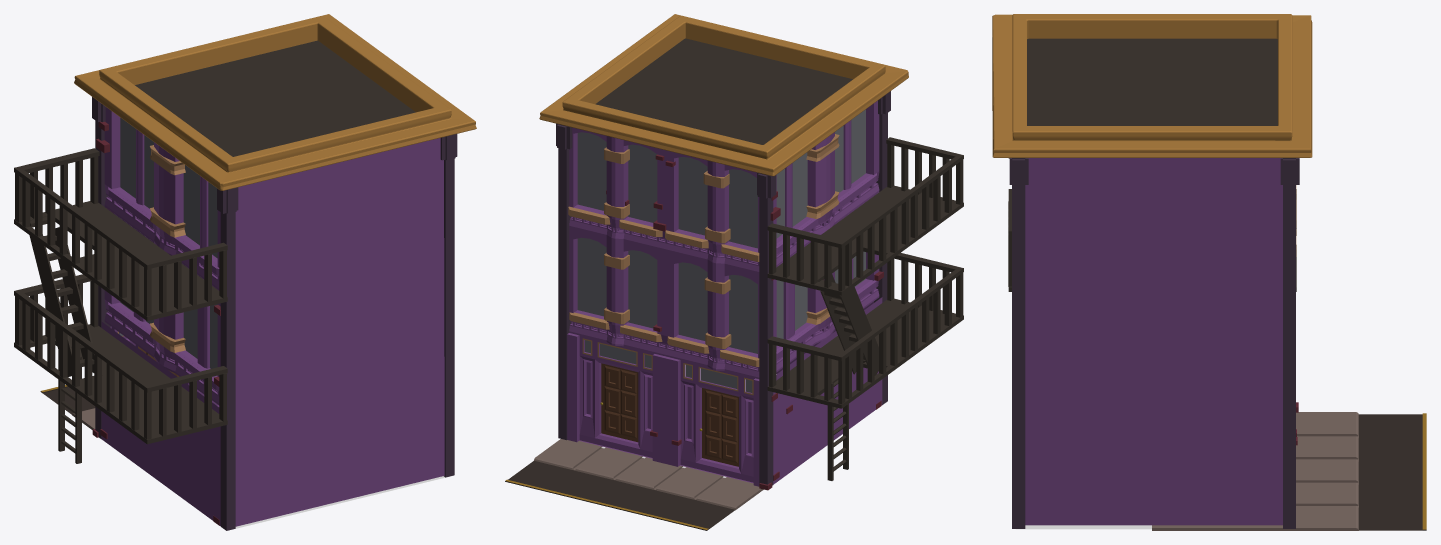
The model's file is LowPolyBuilding4.fbx.
The picture shows the model from 3 angles, left to right: view 1: azimuth 30°, elevation 25°; view 2: azimuth 150°, elevation 25°; view 3: azimuth 270°, elevation 25°; orthographic projection. The views are drawn at different scales.
Parts seen in each view (by area): view 1: Sacada.002, Parede.062, Parede.063, Teto.006, Parede.064, Teto.007, Parede.060, Parede.061, Pilastra.013, Parede.058, Pilastra.015, Escada.004 (+7 smaller); view 2: Sacada.002, Teto.006, Teto.007, Parede.056, Parede.057, Parede.059, Calçada.003, Parede.060, Rua.003, Parede.061, Pilastra.012, Pilastra.014 (+22 smaller); view 3: Parede.065, Parede.066, Parede.067, Teto.006, Teto.007, Calçada.003, Rua.003, Pilastra.015, Pilastra.014, BasePredio.003, Listra Amarela.003, Sacada.002.
Boxes of the visible parts, box(x1,y1,x2,y2) form: Sacada.002: box(14, 148, 227, 444); Parede.062: box(235, 356, 444, 526); Parede.063: box(235, 238, 444, 407); Teto.006: box(74, 14, 476, 190); Parede.064: box(235, 138, 443, 288); Teto.007: box(135, 40, 415, 156); Parede.060: box(104, 107, 220, 289); Parede.061: box(101, 322, 220, 525); Pilastra.013: box(217, 187, 238, 530); Parede.058: box(104, 207, 220, 405); Pilastra.015: box(440, 134, 457, 477); Escada.004: box(29, 227, 94, 376); Sacada.002: box(767, 137, 963, 408); Teto.006: box(539, 14, 908, 176); Teto.007: box(595, 38, 852, 144); Parede.056: box(567, 333, 759, 486); Parede.057: box(569, 227, 759, 378); Parede.059: box(569, 127, 759, 273); Calçada.003: box(534, 439, 763, 510); Parede.060: box(773, 100, 879, 266); Rua.003: box(505, 461, 734, 530); Parede.061: box(773, 297, 882, 484); Pilastra.012: box(757, 172, 776, 485); Pilastra.014: box(556, 123, 572, 440); Parede.065: box(1025, 396, 1282, 525); Parede.066: box(1025, 267, 1282, 395); Parede.067: box(1025, 158, 1282, 267); Teto.006: box(992, 14, 1312, 157); Teto.007: box(1027, 38, 1277, 125); Calçada.003: box(1152, 412, 1358, 530); Rua.003: box(1359, 414, 1426, 530); Pilastra.015: box(1009, 158, 1028, 528); Pilastra.014: box(1280, 158, 1299, 528); BasePredio.003: box(1016, 525, 1151, 529); Listra Amarela.003: box(1422, 413, 1426, 529); Sacada.002: box(1008, 158, 1296, 291).
Size of the model in its own units: 294 by 322 by 316.
